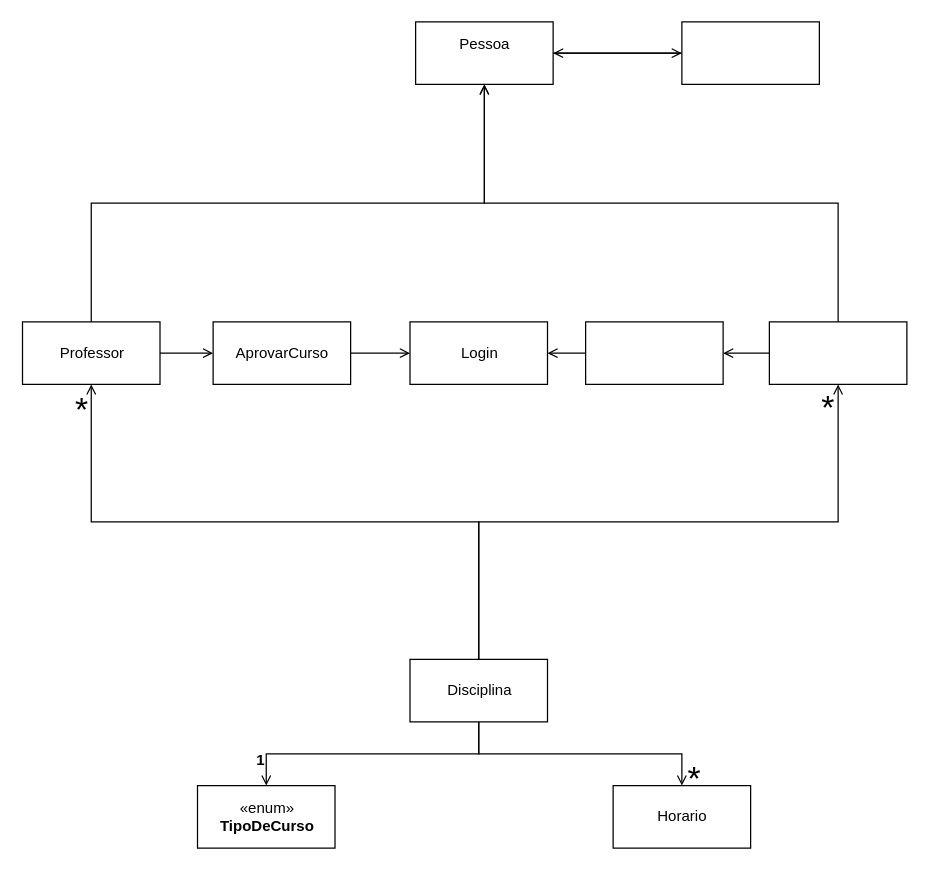
This 929x870 diagram has some shape labels left out. Here are the shapes that lost their labels. From the top down, the centre of each, then its label:
the point at 750,52: Conjuge
the point at 653,352: PreMatricula
the point at 837,352: Aluno
